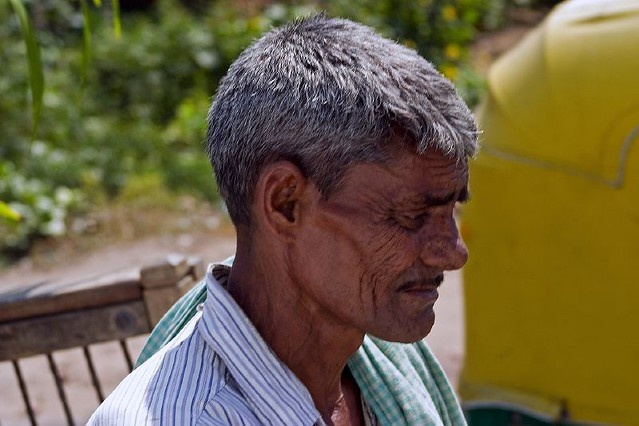without_mask: (226, 104, 479, 350)
